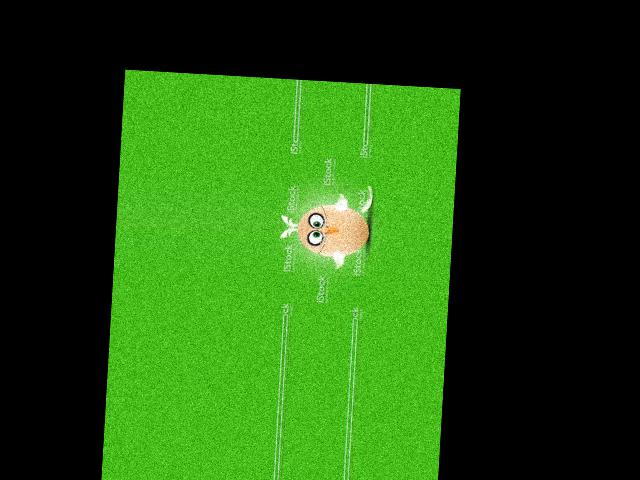egg: (296, 202, 371, 258)
